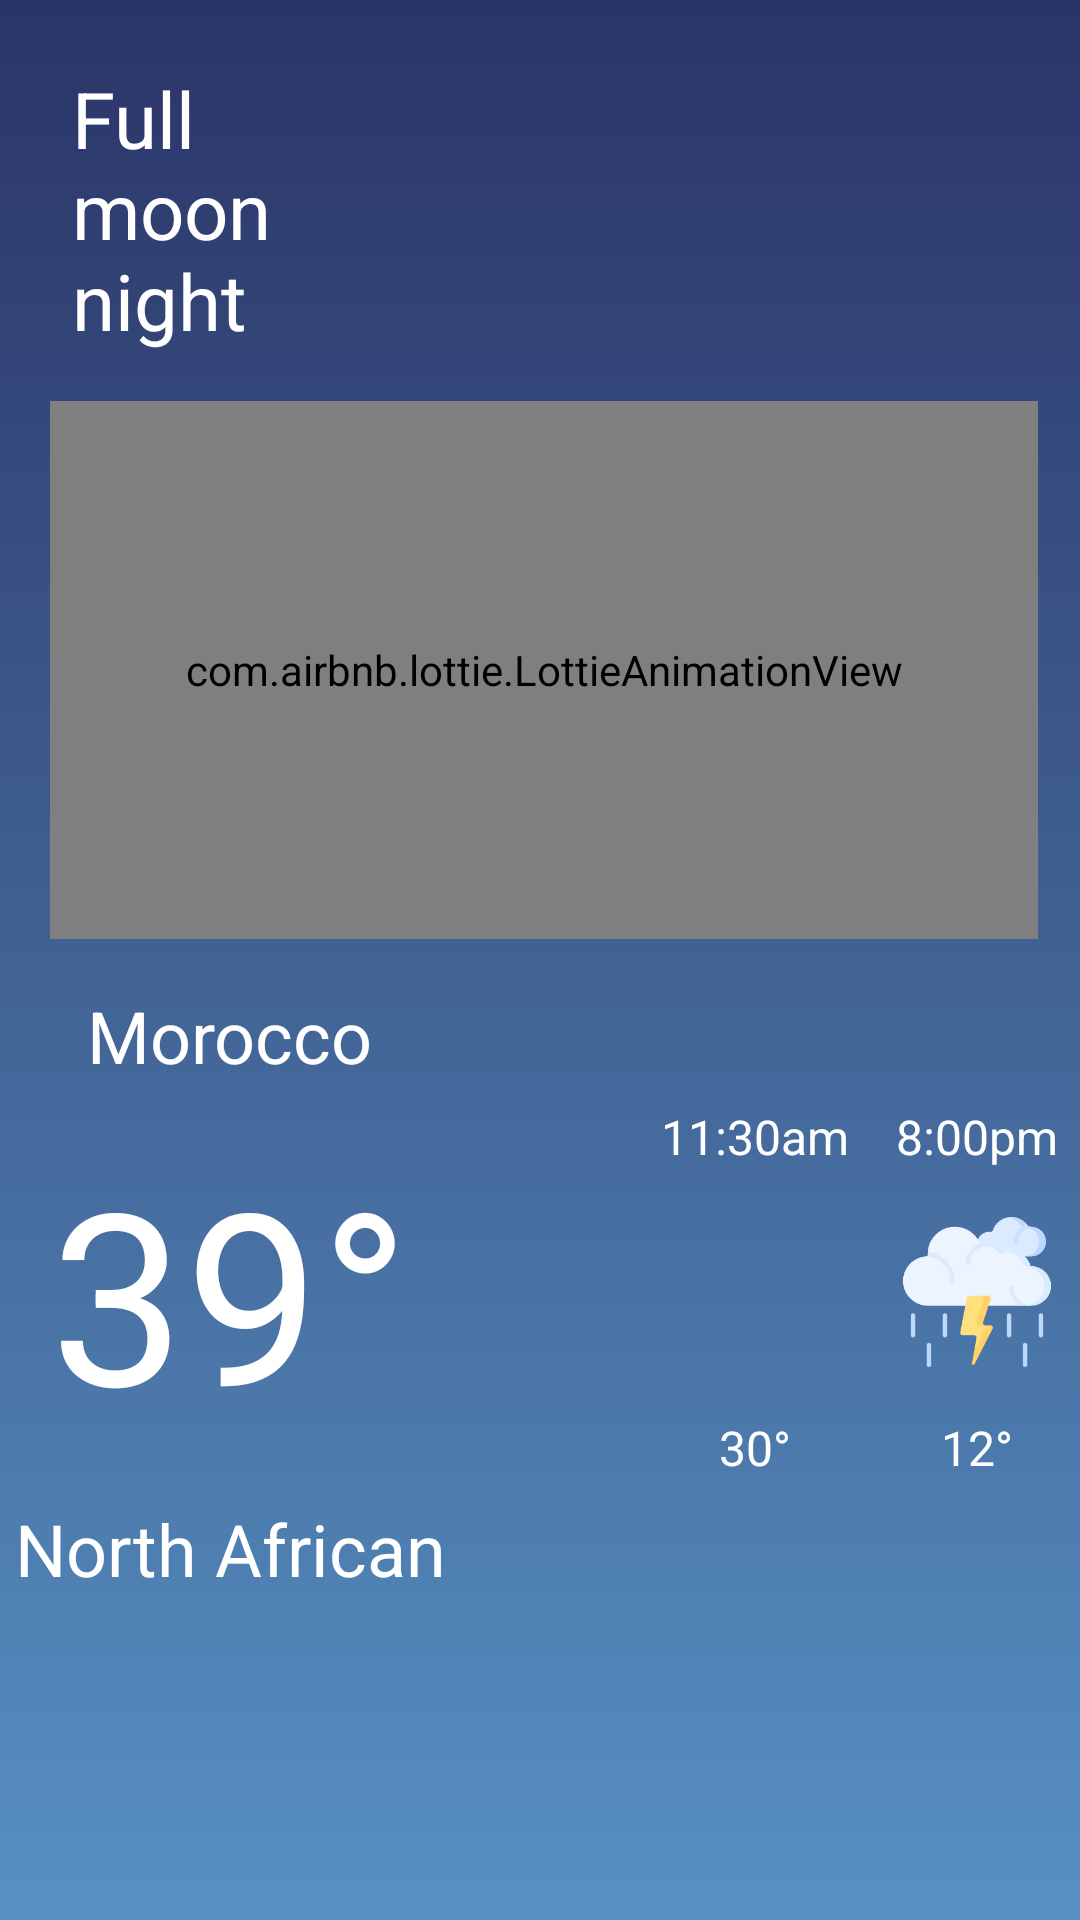

Screen size 1080 x 1920. Icon name, then its center in pixels as point (x, y):
thunderstorm: point (977, 1292)
